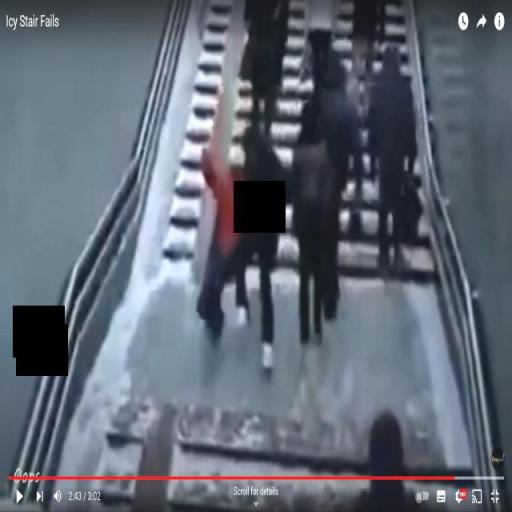Fall: (227, 98, 300, 381), (193, 69, 252, 353)
